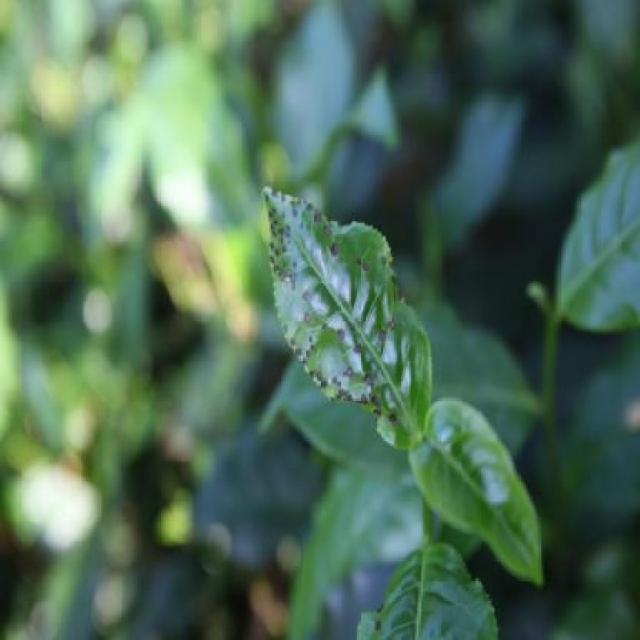Tea Mosquito bug infested leaf: (251, 185, 417, 504)
